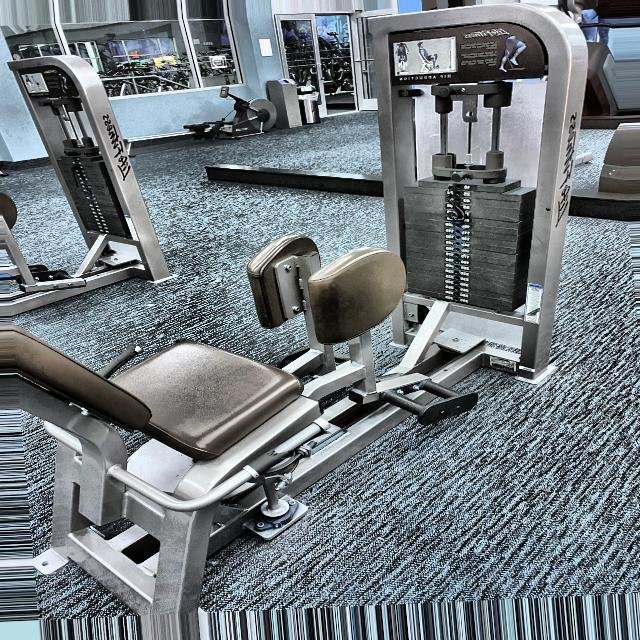hip_adduction_machine: (268, 236, 556, 448), (387, 30, 540, 83), (396, 73, 470, 82)
